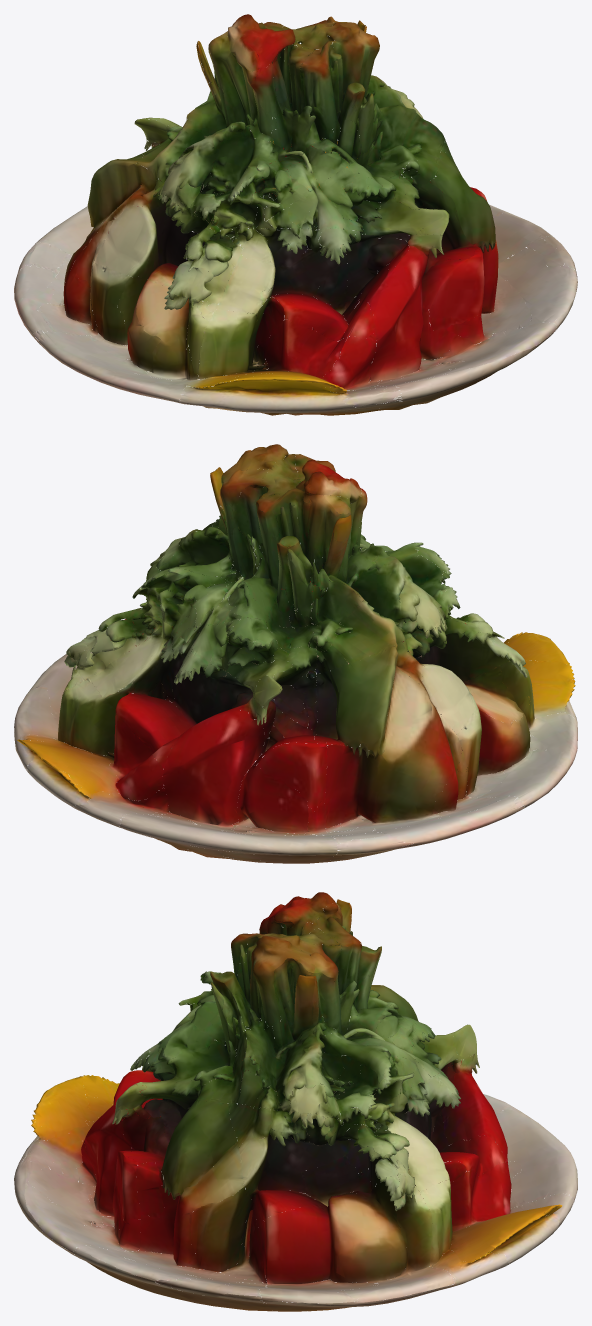
Rendered from sabzavot.glb.
3 renders of one model, top to bottom at view 1: azimuth 30°, elevation 25°; view 2: azimuth 150°, elevation 25°; view 3: azimuth 270°, elevation 25°, orthographic.
Parts seen in each view (by area): view 1: tripo_node_e4fd56ea-a559-41a0-8480-92443b603a51; view 2: tripo_node_e4fd56ea-a559-41a0-8480-92443b603a51; view 3: tripo_node_e4fd56ea-a559-41a0-8480-92443b603a51.
Boxes of the visible parts, x1,y1,x2,y2 form: tripo_node_e4fd56ea-a559-41a0-8480-92443b603a51: (14, 14, 577, 415); tripo_node_e4fd56ea-a559-41a0-8480-92443b603a51: (14, 444, 577, 863); tripo_node_e4fd56ea-a559-41a0-8480-92443b603a51: (14, 892, 577, 1311).
Size of the model in its own units: 0.9798 by 0.6143 by 0.9778.
Materials: 1 (1 with a texture image).
